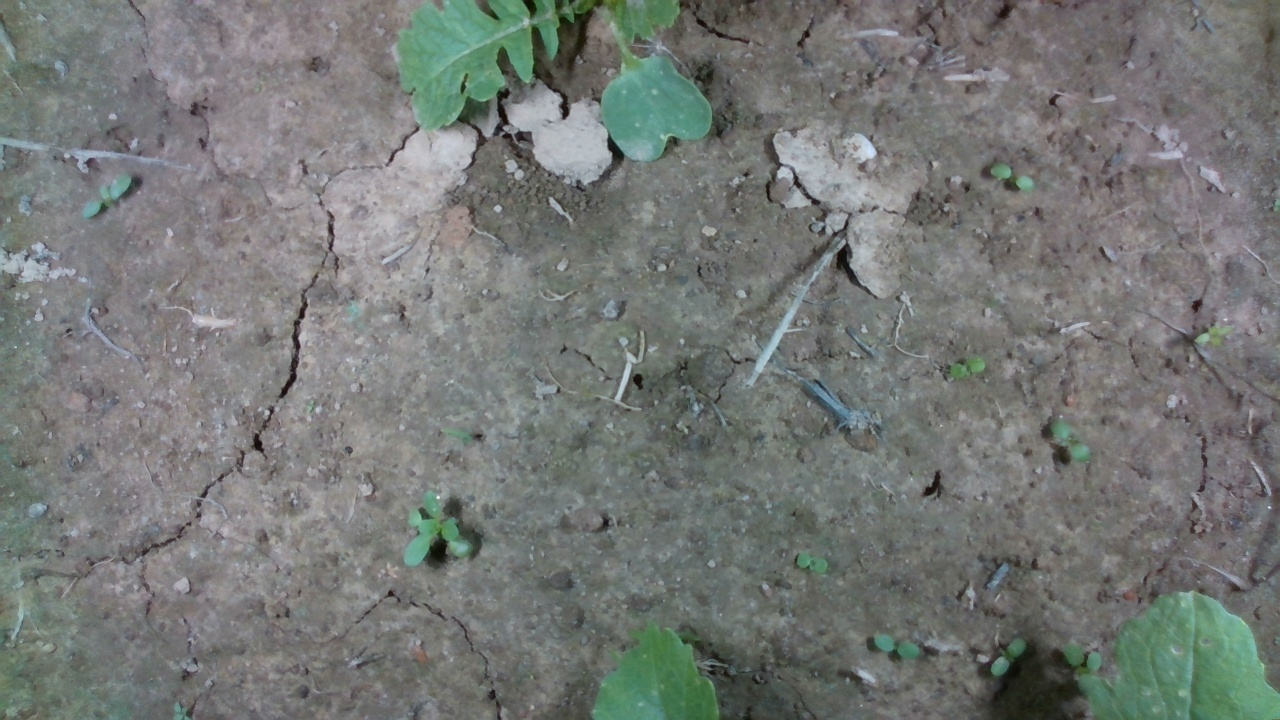weed: (80, 172, 132, 220), (1050, 418, 1091, 462), (989, 161, 1035, 194), (990, 636, 1027, 677), (871, 632, 921, 661), (1194, 324, 1235, 345), (948, 357, 985, 379), (796, 552, 829, 575)
